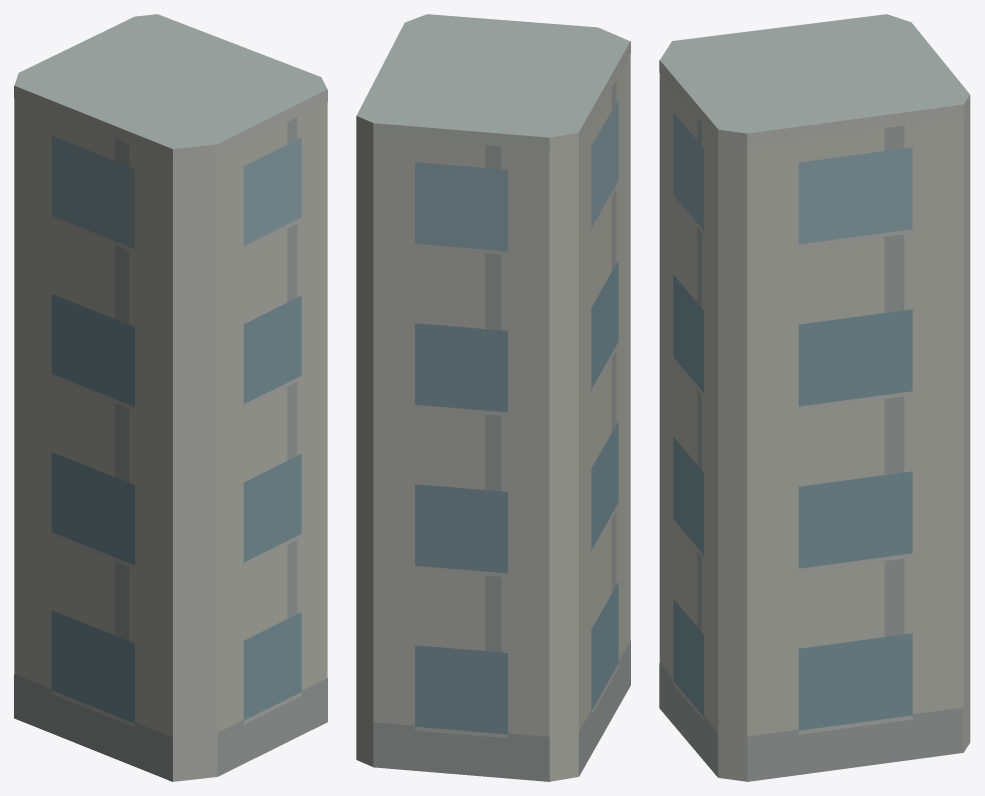
Rendered from survey-upis-32645573.glb.
3 views of the same model, side by side, from view 1: azimuth 30°, elevation 25°; view 2: azimuth 150°, elevation 25°; view 3: azimuth 270°, elevation 25° (orthographic). The views are drawn at different scales.
Parts seen in each view (by area): view 1: survey-upis-32645573.tmp; view 2: survey-upis-32645573.tmp; view 3: survey-upis-32645573.tmp.
Part boxes in pixels (box(x1,y1,x2,y2)): survey-upis-32645573.tmp: box(14, 14, 327, 781); survey-upis-32645573.tmp: box(356, 14, 630, 781); survey-upis-32645573.tmp: box(659, 14, 970, 781).
Size of the model in its own units: 4.83 by 12.2 by 5.31.
